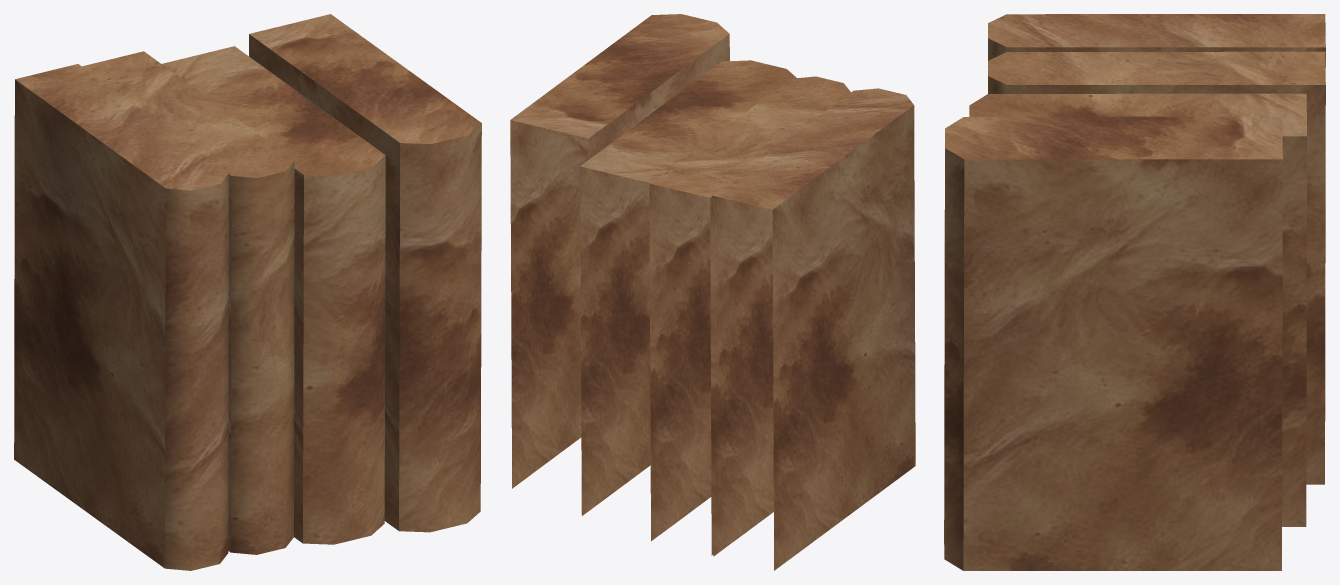
Rendered from tr_books_row_2.glb.
The picture shows the model from 3 angles, left to right: view 1: azimuth 30°, elevation 25°; view 2: azimuth 150°, elevation 25°; view 3: azimuth 270°, elevation 25°; orthographic projection. The views are drawn at different scales.
Parts seen in each view (by area): view 1: model; view 2: model; view 3: model.
Boxes of the visible parts, box(x1,y1,x2,y2) form: model: box(14, 14, 481, 570); model: box(510, 14, 915, 570); model: box(944, 14, 1325, 570).
Bounding box in the file's own units: 0.2276 × 0.2831 × 0.2372.
1 material, 1 textured.
